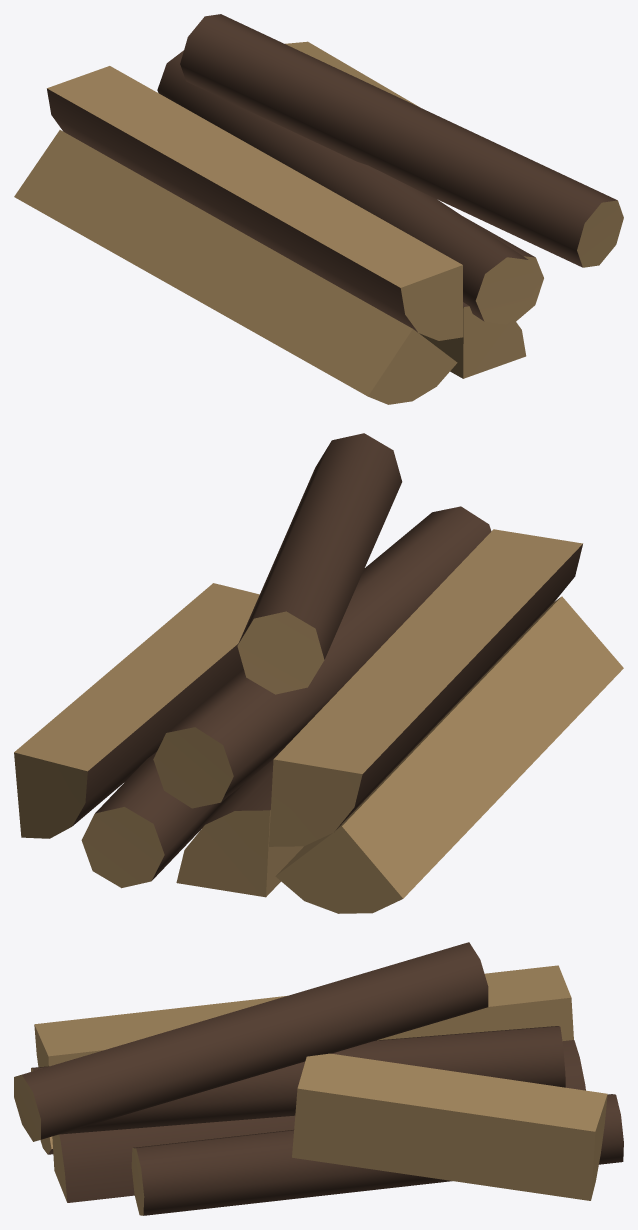
The model's file is firewood02.glb.
3 renders of one model, top to bottom at view 1: azimuth 30°, elevation 25°; view 2: azimuth 150°, elevation 25°; view 3: azimuth 270°, elevation 25°, orthographic. The views are drawn at different scales.
Parts seen in each view (by area): view 1: Object_2; view 2: Object_2; view 3: Object_2.
Part boxes in pixels (bbox=[...]): Object_2: bbox=[14, 14, 623, 404]; Object_2: bbox=[14, 433, 623, 913]; Object_2: bbox=[14, 942, 623, 1215].
Size of the model in its own units: 0.4671 by 0.2865 by 0.746.
1 material, 1 textured.
